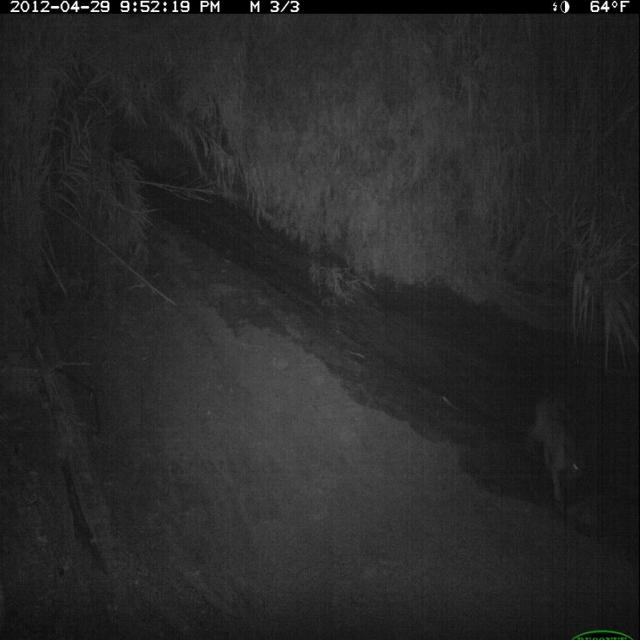bobcat: (521, 389, 589, 513)
